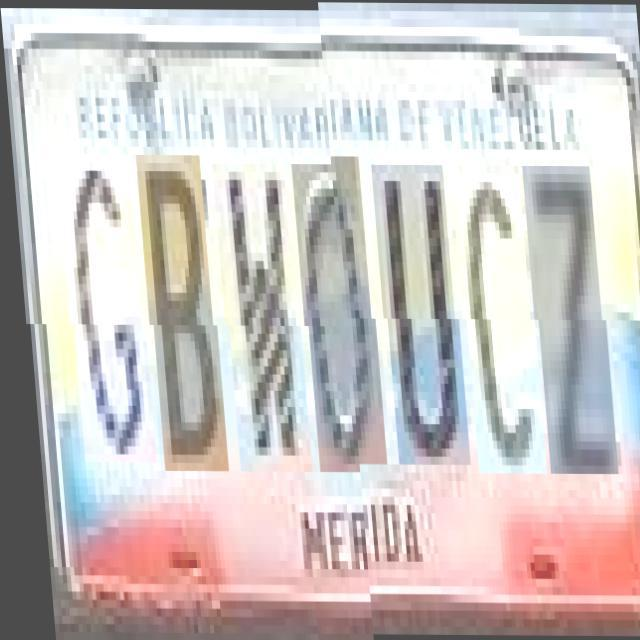B: (137, 155, 221, 471)
C: (452, 181, 540, 481)
G: (58, 154, 148, 462)
O: (293, 164, 380, 472)
U: (372, 172, 463, 472)
W: (213, 164, 304, 472)
Z: (524, 173, 611, 481)
